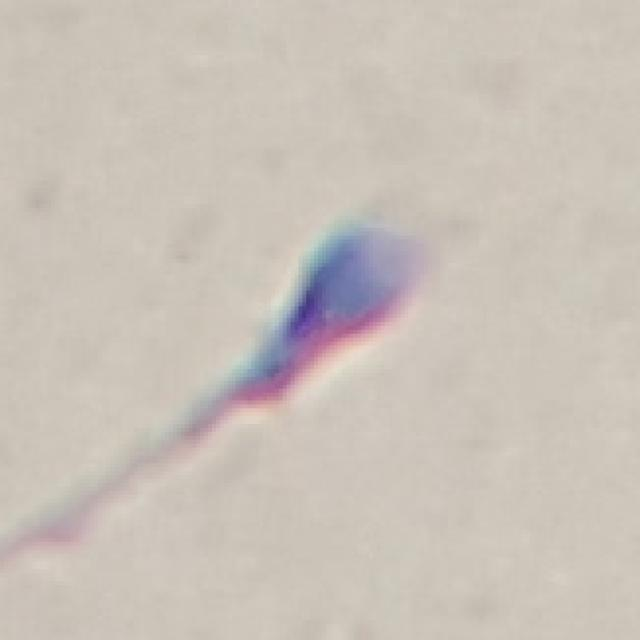non-sperm: (134, 207, 464, 476)
